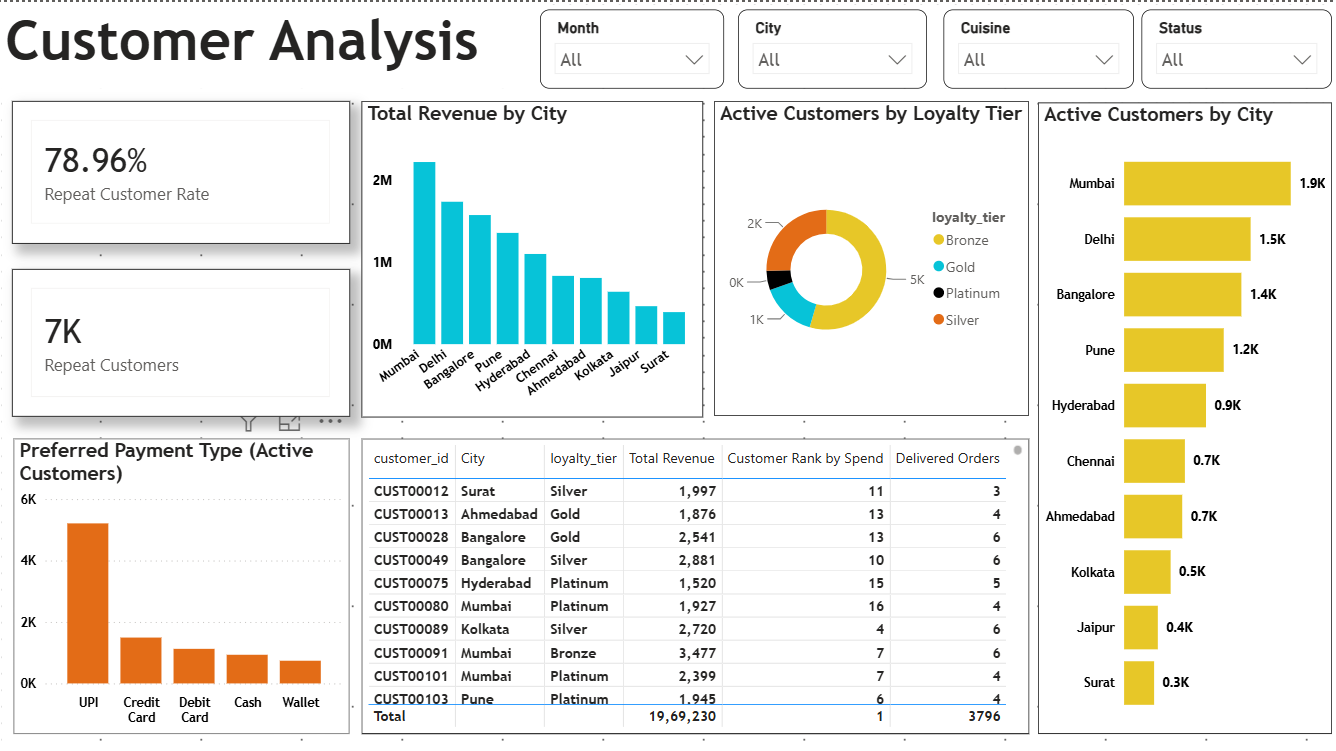

The dashboard page shown, as its layout file describes it:
{"tool":"powerbi","page":{"name":"Customer Analysis","canvas":[1280,720],"ordinal":2},"visuals":[{"type":"barChart","fields":{"Category":["customers.city"],"Y":["Shared Measures.Active Customers"]},"box":[989.1,95.3,279.7,601.6],"z":0},{"type":"donutChart","title":"Active Customers by Loyalty Tier","fields":{"Series":["customers.loyalty_tier"],"Y":["Shared Measures.Active Customers"]},"box":[679.7,93.8,300,300],"z":1000},{"type":"clusteredColumnChart","title":"Preferred Payment Type (Active Customers)","fields":{"Category":["customers.preferred_payment_method"],"Y":["Shared Measures.Active Customers"]},"box":[12.5,415.6,320.3,281.2],"z":2000},{"type":"tableEx","fields":{"Values":["customers.customer_id","customers.city","customers.loyalty_tier","Shared Measures.Total Revenue","Customer Analysis.Customer Rank by Spend","Shared Measures.Delivered Orders"]},"box":[343.8,415.6,635.9,281.2],"z":3000},{"type":"cardVisual","fields":{"Data":["Shared Measures.Repeat Customer Rate"]},"box":[10.9,93.8,321.9,135.9],"z":4000},{"type":"slicer","fields":{"Values":["orders.order_time.Variation.Date Hierarchy.Month"]},"box":[514.1,7.8,175,75],"z":5000},{"type":"slicer","fields":{"Values":["customers.city"]},"box":[703.1,7.8,179.7,75],"z":6000},{"type":"slicer","fields":{"Values":["restaurants.cuisine"]},"box":[898.4,7.8,181.2,75],"z":7000},{"type":"slicer","fields":{"Values":["orders.status"]},"box":[1087.5,7.8,181.2,75],"z":8000},{"type":"textbox","box":[0,0,514.1,82.8],"z":9000},{"type":"cardVisual","fields":{"Data":["Shared Measures.Repeat Customers"]},"box":[10.9,254.7,321.9,140.6],"z":10000},{"type":"columnChart","fields":{"Category":["customers.city"],"Y":["Shared Measures.Total Revenue"]},"box":[343.8,93.8,325,301.6],"z":11000}]}

Visuals, with their boxes in screenshot pixels (x1, y1, x2, y2), scaled from the page's 1280x720 canvas onto the 1336x751 screenshot:
barChart - customers.city x Shared Measures.Active Customers: (1032,99,1324,727)
"Active Customers by Loyalty Tier" donutChart: (709,98,1023,411)
"Preferred Payment Type (Active Customers)" clusteredColumnChart: (13,433,347,727)
tableEx - customers.customer_id x customers.city: (359,433,1023,727)
cardVisual - Shared Measures.Repeat Customer Rate: (11,98,347,240)
slicer - orders.order_time.Variation.Date Hierarchy.Month: (537,8,719,86)
slicer - customers.city: (734,8,921,86)
slicer - restaurants.cuisine: (938,8,1127,86)
slicer - orders.status: (1135,8,1324,86)
textbox: (0,0,537,86)
cardVisual - Shared Measures.Repeat Customers: (11,266,347,412)
columnChart - customers.city x Shared Measures.Total Revenue: (359,98,698,412)
